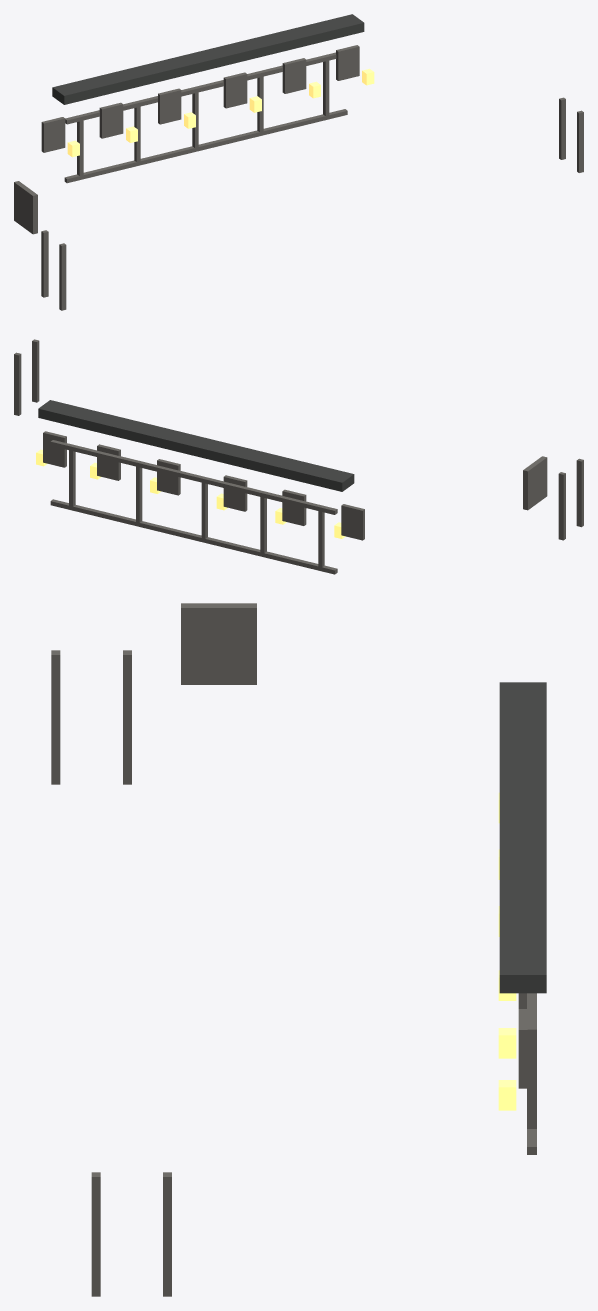
File: hd2d_market_prop_wall_detail_set.glb
3 renders of one model, top to bottom at view 1: azimuth 30°, elevation 25°; view 2: azimuth 150°, elevation 25°; view 3: azimuth 270°, elevation 25°, orthographic. The views are drawn at different scales.
Visible parts, largest first — view 1: WallTrimBackEaveShadow, WallTrimBackHorizontalLower, WallTrimBackHorizontalUpper, WindowFrameLeftUpper, WindowFrameBack00, WindowFrameBack03, WindowFrameBack01, WindowFrameBack04, WindowFrameBack02, WindowFrameBack05, DoorFrameLeftShopA, DoorFrameLeftShopB (+3 smaller); view 2: WallTrimBackEaveShadow, WallTrimBackHorizontalUpper, WallTrimBackHorizontalLower, WindowFrameLeftUpper, WindowFrameBack00, WindowFrameBack05, WindowFrameBack01, WindowFrameBack02, WindowFrameBack03, WindowFrameBack04, DoorFrameLeftShopB, DoorFrameLeftShopA (+7 smaller); view 3: WallTrimBackEaveShadow, WindowFrameLeftUpper, DoorFrameLeftShopB, DoorFrameRightShopB, DoorFrameLeftShopA, DoorFrameRightShopA, WallTrimBackVertical04.
Boxes of the visible parts, x1,y1,x2,y2 form: WallTrimBackEaveShadow: (52,14,364,104); WallTrimBackHorizontalLower: (64,109,347,183); WallTrimBackHorizontalUpper: (65,52,336,124); WindowFrameLeftUpper: (14,181,37,234); WindowFrameBack00: (41,117,65,152); WindowFrameBack03: (223,72,247,108); WindowFrameBack01: (99,102,123,138); WindowFrameBack04: (282,58,306,93); WindowFrameBack02: (158,88,181,124); WindowFrameBack05: (336,45,359,80); DoorFrameLeftShopA: (41,230,48,297); DoorFrameLeftShopB: (59,243,66,310); WallTrimBackEaveShadow: (38,400,354,491); WallTrimBackHorizontalUpper: (50,440,337,514); WallTrimBackHorizontalLower: (50,499,337,574); WindowFrameLeftUpper: (523,456,547,510); WindowFrameBack00: (341,504,364,540); WindowFrameBack05: (43,431,66,467); WindowFrameBack01: (282,489,306,525); WindowFrameBack02: (223,475,247,511); WindowFrameBack03: (157,459,180,495); WindowFrameBack04: (97,444,120,480); DoorFrameLeftShopB: (576,458,583,527); DoorFrameLeftShopA: (558,472,565,540); WallTrimBackEaveShadow: (499,682,546,993); WindowFrameLeftUpper: (181,603,256,684); DoorFrameLeftShopB: (51,650,60,784); DoorFrameRightShopB: (91,1172,100,1296); DoorFrameLeftShopA: (123,650,131,784); DoorFrameRightShopA: (163,1172,171,1296); WallTrimBackVertical04: (527,1037,536,1128).
Size of the model in its own units: 11 by 2.07 by 4.43.
